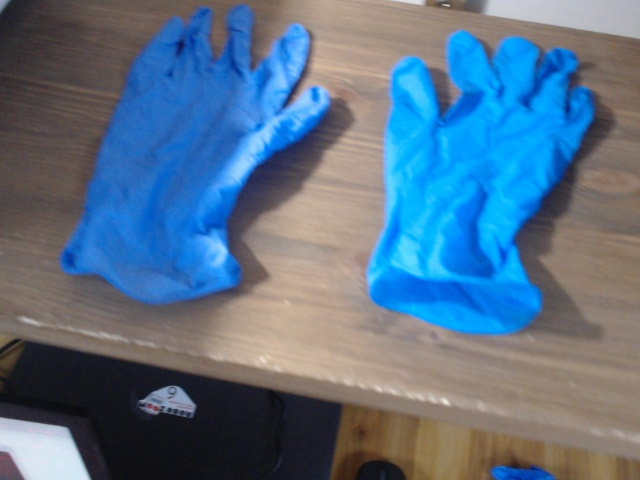medical_glove: (65, 3, 327, 298), (366, 29, 595, 330)
